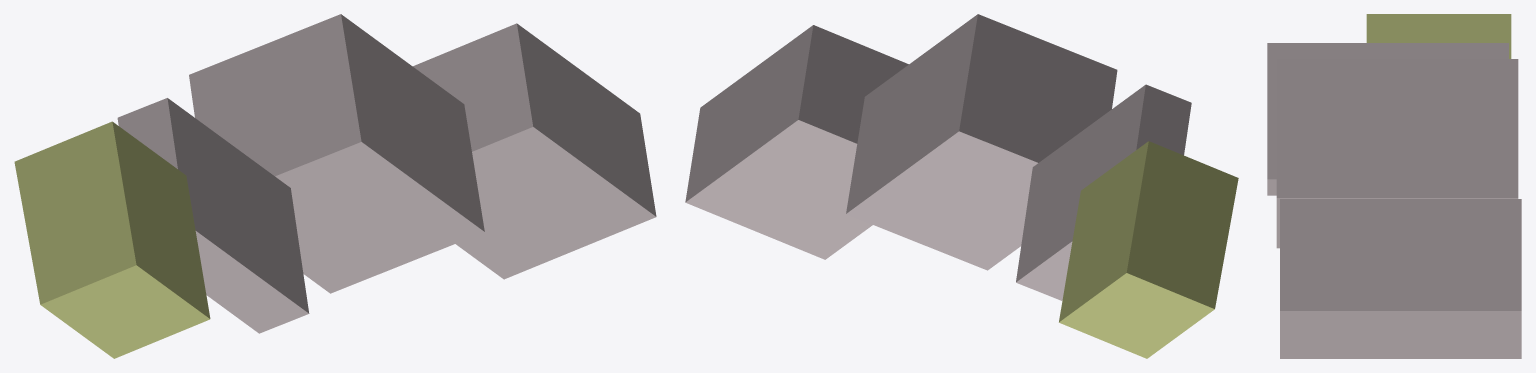
The picture shows the model from 3 angles, left to right: view 1: azimuth 30°, elevation 25°; view 2: azimuth 150°, elevation 25°; view 3: azimuth 270°, elevation 25°; orthographic projection. The views are drawn at different scales.
Parts seen in each view (by area): view 1: 0_2_3_3_3_0_2_3; view 2: 0_2_3_3_3_0_2_3; view 3: 0_2_3_3_3_0_2_3.
Part boxes in pixels (<box>): 0_2_3_3_3_0_2_3: <box>14,14,656,358</box>; 0_2_3_3_3_0_2_3: <box>685,14,1238,358</box>; 0_2_3_3_3_0_2_3: <box>1267,14,1521,358</box>.
Size of the model in its own units: 36.8 by 14.37 by 15.79.
